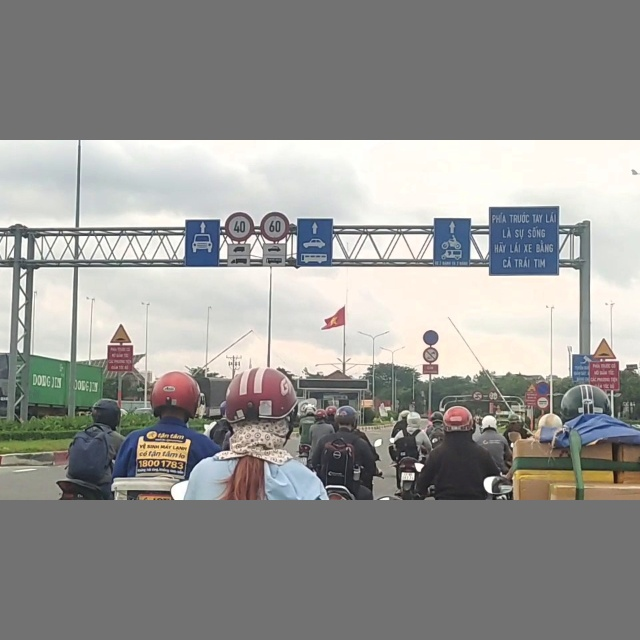Camera: (572, 354, 592, 383)
P.107: (487, 391, 499, 401), (473, 391, 483, 401)
P.111: (423, 347, 439, 363)
P.127*40: (224, 213, 254, 241)
P.127*60: (260, 212, 289, 241)
P.129: (536, 396, 549, 410)
P.130: (423, 330, 439, 345)
P.131a: (537, 381, 550, 396)
W.221b: (593, 339, 616, 359), (110, 323, 131, 343), (525, 383, 536, 393)
